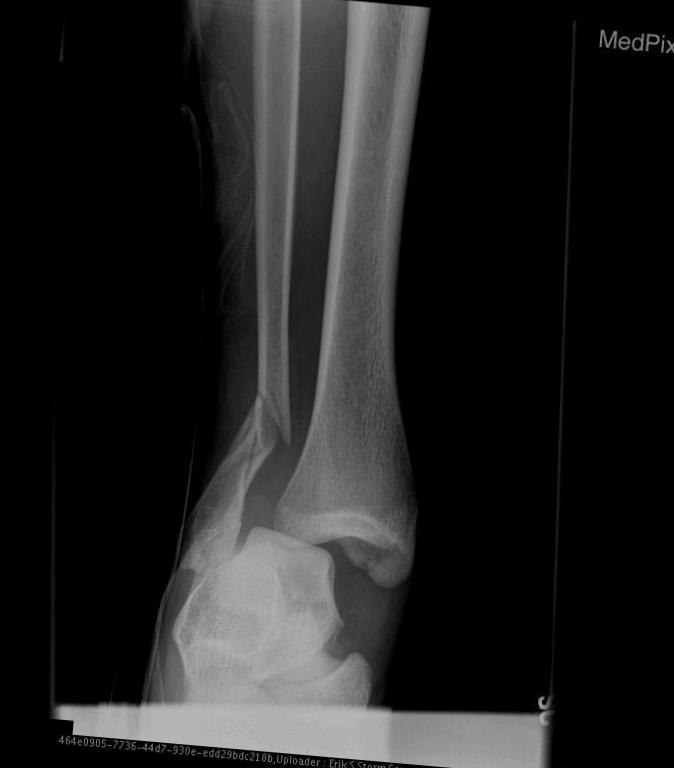messed_up_angle: (210, 385, 294, 490)
